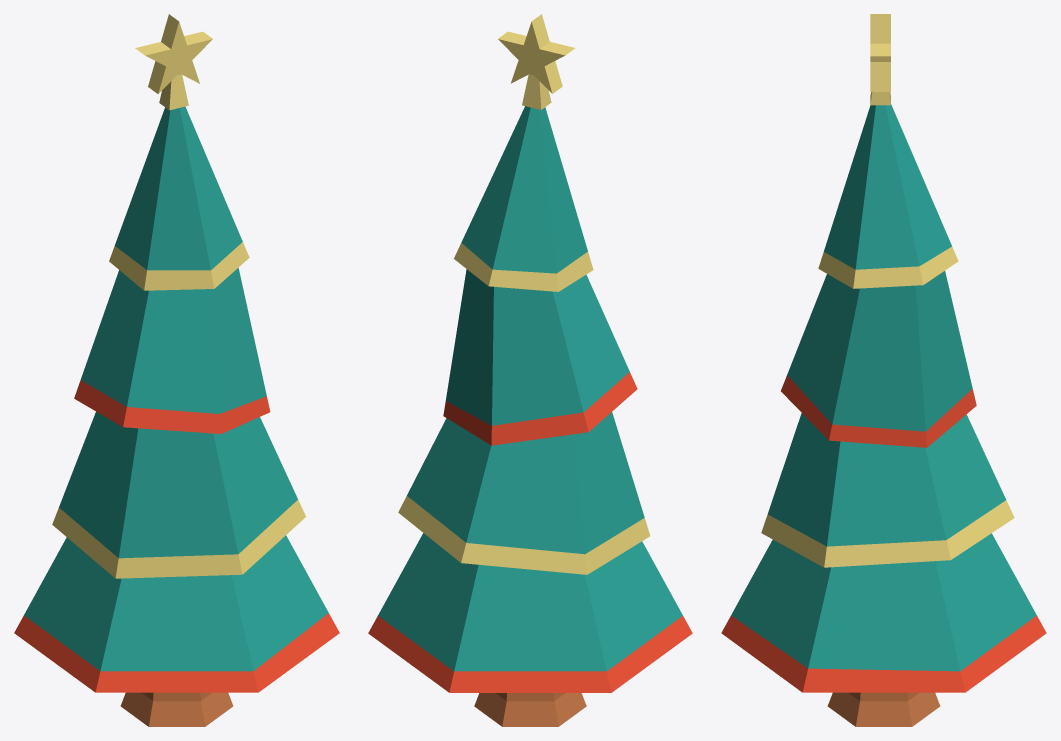
Rendered from treeDecorated.fbx.
3 renders of one model, left to right at view 1: azimuth 30°, elevation 25°; view 2: azimuth 150°, elevation 25°; view 3: azimuth 270°, elevation 25°, orthographic.
Visible parts, largest first — view 1: treeDecorated, star; view 2: treeDecorated, star; view 3: treeDecorated, star.
Part boxes in pixels (x1,y1,x2,y2): treeDecorated: (14, 106, 339, 726); star: (135, 14, 212, 110); treeDecorated: (368, 106, 692, 726); star: (498, 14, 575, 109); treeDecorated: (721, 104, 1046, 726); star: (870, 14, 890, 105).
Bounding box in the file's own units: 6.51 × 17.59 × 7.52.
